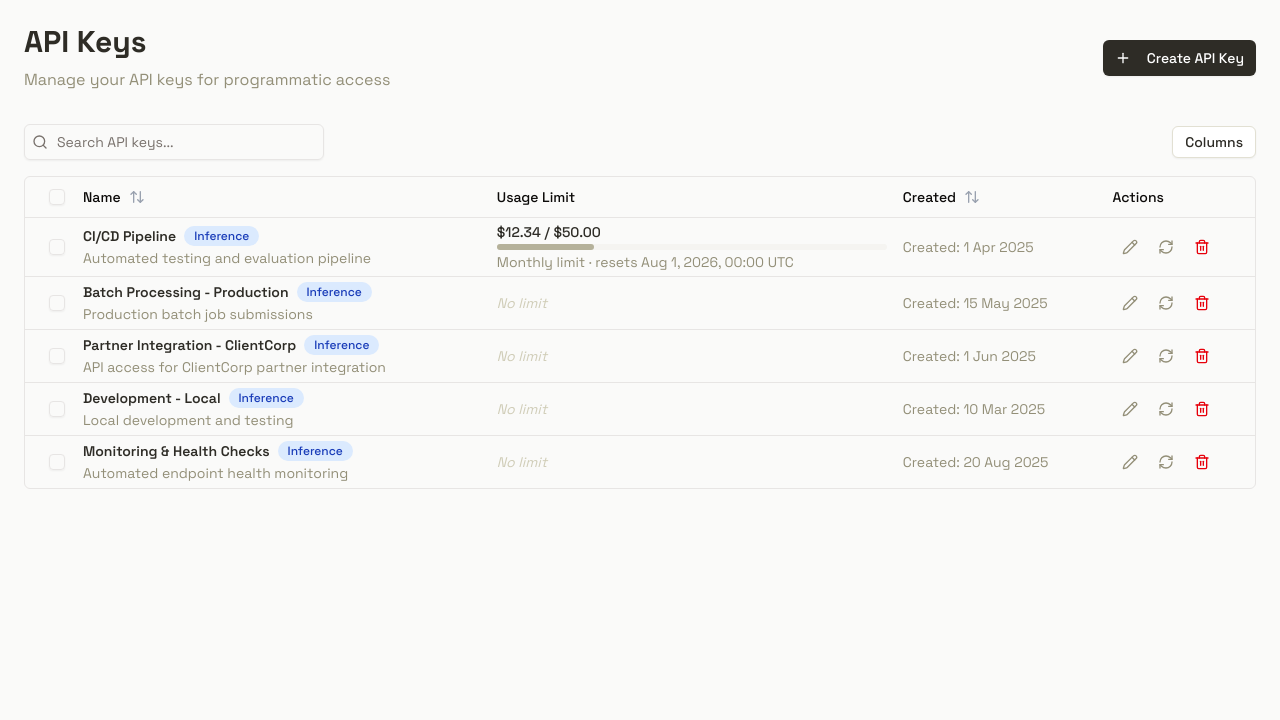
API Keys Component - Functional Tests › API Key Management Journey › copies API key to clipboard after creation
The width and height of the screenshot is (1280, 720).
Check: the heading "API Keys" is shown, box x1=24 y1=22 x2=147 y2=61
Click the button with aria-label "create new api key". click: (1179,58)
box: x1=1103 y1=40 x2=1256 y2=76
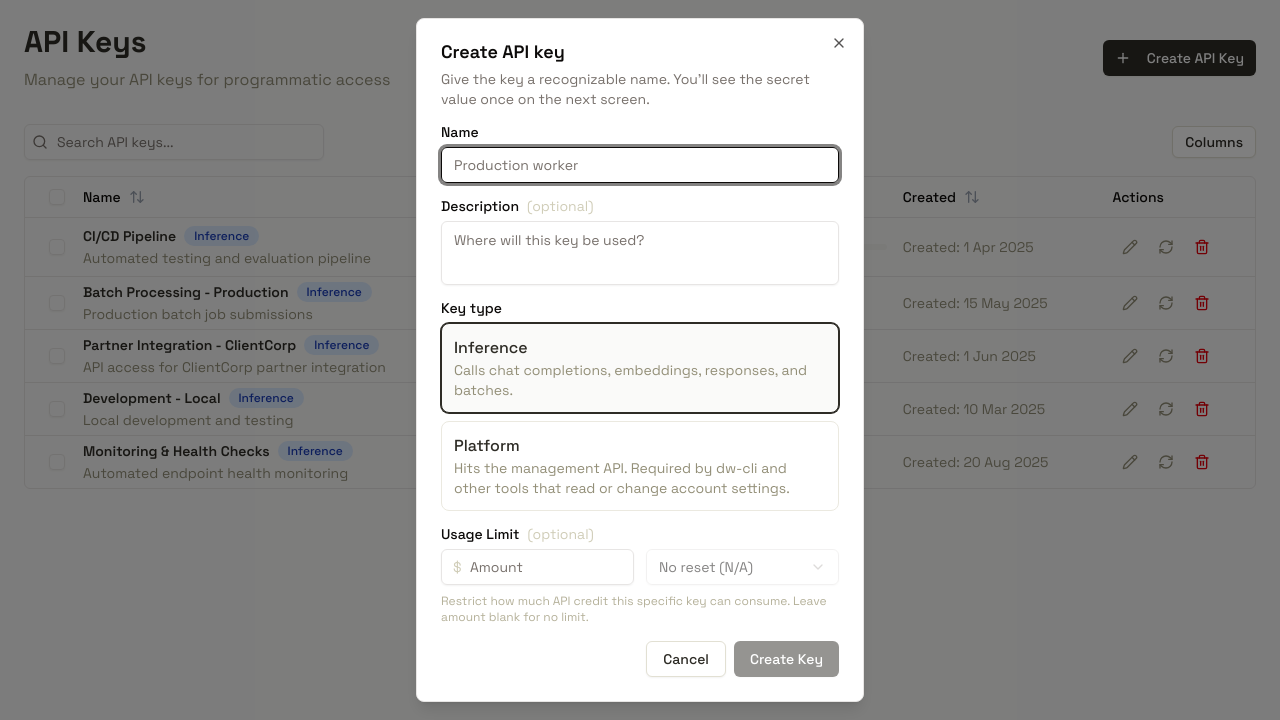
Check: the dialog is shown, box x1=416 y1=18 x2=864 y2=702
Type "Test Key" into the field labelled "Name". click: (640,165)
box: x1=441 y1=147 x2=839 y2=183
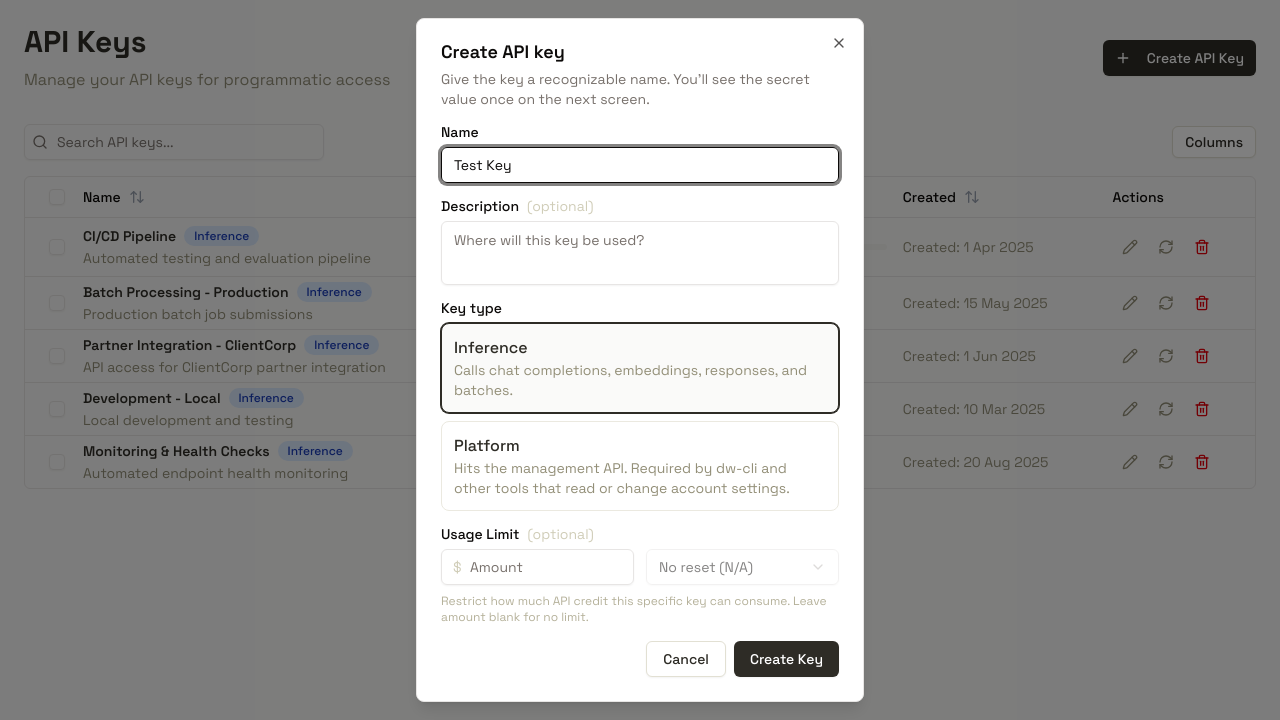
Click the button "Create Key". click: (786,659)
box: x1=734 y1=641 x2=839 y2=677
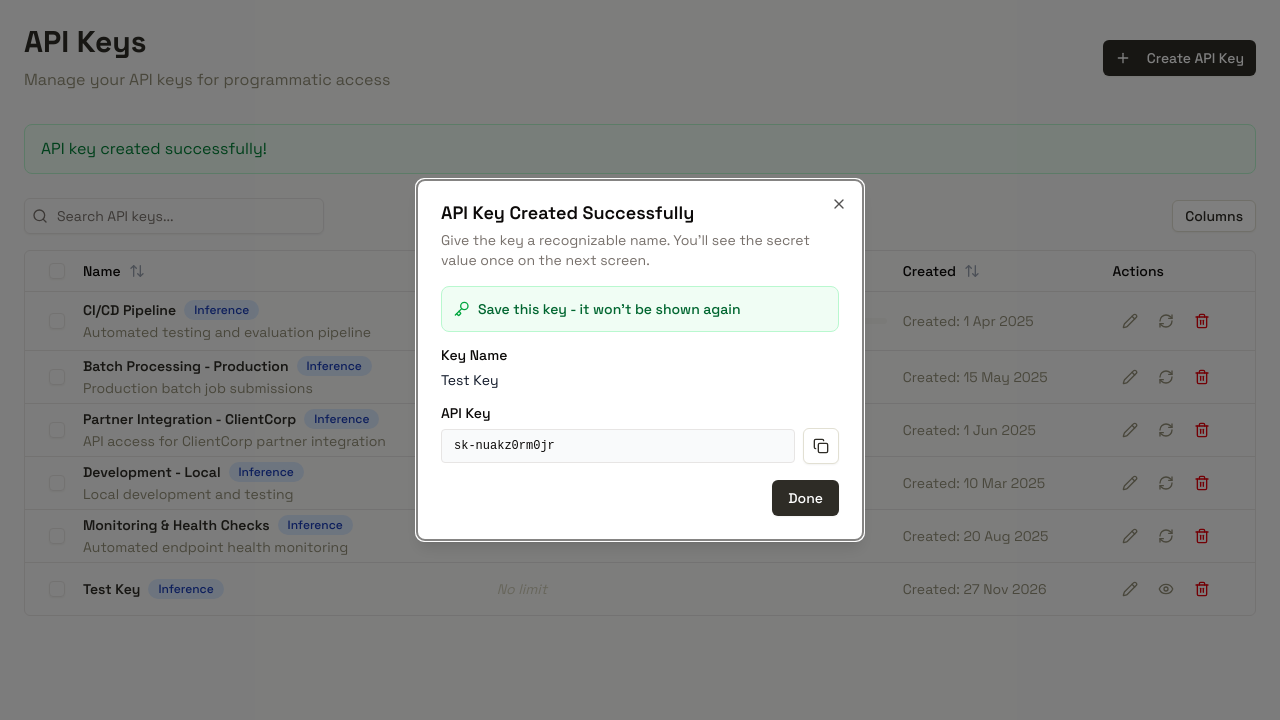
Check: the heading "API Key Created Successfully" is shown, box x1=441 y1=201 x2=694 y2=224
Check: the button named "copy api key" is shown, box x1=803 y1=428 x2=839 y2=464
